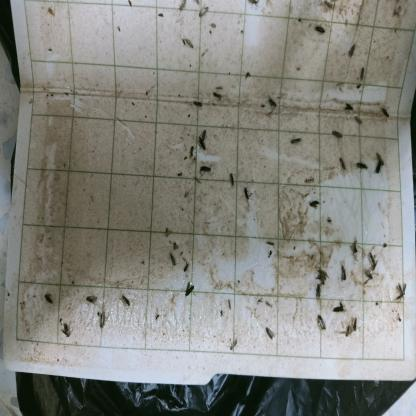prays_oleae: (312, 311, 328, 333), (356, 62, 372, 84), (312, 22, 331, 40), (197, 125, 208, 156), (394, 282, 409, 303), (95, 311, 111, 330), (266, 93, 282, 112), (184, 277, 196, 302), (330, 300, 348, 316), (184, 32, 195, 58), (338, 260, 349, 285), (381, 100, 392, 124), (289, 134, 306, 149), (346, 39, 357, 62), (262, 324, 276, 342), (166, 248, 178, 269), (353, 160, 370, 174), (61, 321, 74, 339), (82, 296, 101, 308), (329, 126, 344, 141), (307, 198, 323, 212), (227, 337, 241, 353), (313, 283, 324, 303), (42, 292, 54, 310), (316, 264, 330, 279), (376, 146, 388, 163), (243, 184, 254, 202), (336, 154, 348, 170), (352, 311, 360, 335), (363, 265, 373, 284), (198, 4, 209, 20), (343, 322, 351, 344), (227, 171, 236, 190), (120, 291, 130, 307), (177, 2, 190, 14), (192, 94, 203, 108), (201, 164, 213, 176), (353, 115, 364, 127), (375, 160, 381, 179), (344, 100, 354, 110)
